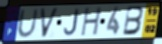4: (105, 6, 121, 37)
B: (121, 5, 146, 37)
H: (79, 6, 103, 38)
J: (63, 8, 80, 36)
U: (16, 8, 39, 39)
V: (39, 6, 60, 39)
